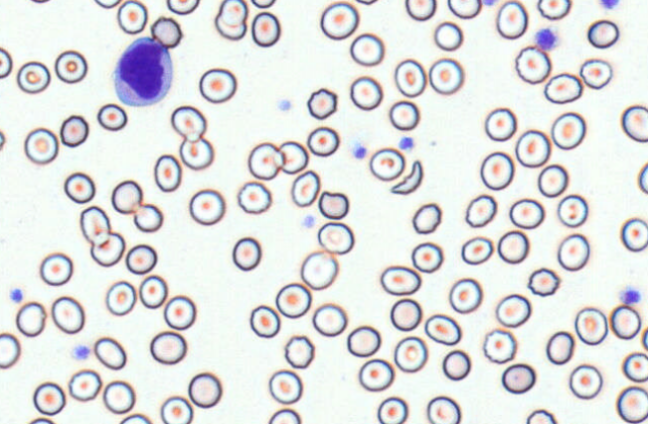MONO: (113, 35, 178, 107)
PLT: (537, 27, 560, 50), (620, 285, 644, 303), (71, 344, 91, 361), (8, 286, 24, 305), (399, 135, 415, 151), (278, 98, 292, 113), (601, 0, 621, 10), (353, 145, 366, 159), (302, 215, 315, 229), (480, 0, 497, 7)
RBC: (112, 36, 173, 106), (300, 250, 338, 290), (320, 1, 358, 40), (514, 45, 550, 84), (550, 111, 586, 150), (188, 188, 225, 225), (247, 142, 283, 180), (198, 67, 236, 103), (479, 151, 514, 190), (515, 129, 550, 167), (574, 306, 608, 345), (170, 105, 206, 141), (275, 282, 311, 318), (428, 57, 463, 94), (51, 295, 84, 334), (79, 205, 111, 245), (90, 231, 125, 267), (187, 372, 222, 408), (24, 127, 58, 164), (149, 330, 186, 364), (557, 233, 590, 271), (543, 72, 582, 104), (394, 58, 426, 97), (380, 265, 421, 295), (568, 363, 602, 399), (369, 147, 405, 181), (448, 277, 482, 313), (393, 336, 427, 372), (495, 293, 531, 327), (317, 221, 354, 254), (496, 0, 527, 39), (482, 328, 516, 363), (312, 302, 347, 336), (268, 369, 302, 404), (349, 32, 384, 66), (358, 358, 394, 391), (424, 313, 461, 345), (616, 385, 647, 423), (16, 60, 50, 94), (39, 252, 73, 286), (163, 295, 196, 330), (236, 181, 271, 214), (349, 75, 382, 110), (290, 169, 320, 207), (179, 137, 213, 170), (54, 49, 87, 83), (93, 336, 126, 370), (102, 380, 135, 414), (32, 381, 65, 415), (111, 179, 143, 214), (609, 304, 641, 339), (346, 325, 381, 357), (15, 301, 46, 337), (105, 280, 136, 316), (389, 298, 422, 331), (497, 230, 529, 264), (484, 107, 516, 141), (509, 198, 544, 229), (153, 154, 181, 192), (68, 369, 101, 401), (116, 0, 147, 34), (501, 363, 535, 394), (537, 163, 568, 197), (249, 304, 280, 338), (251, 11, 280, 47), (63, 171, 95, 203), (411, 241, 443, 273), (465, 194, 496, 227), (557, 194, 588, 227), (579, 58, 612, 89), (278, 140, 308, 174), (284, 334, 314, 368), (232, 236, 261, 271), (125, 243, 157, 274), (306, 87, 337, 119), (306, 126, 339, 156), (621, 104, 647, 142), (138, 274, 167, 308), (426, 395, 460, 424), (545, 330, 574, 364), (620, 217, 648, 252), (411, 202, 441, 234), (160, 395, 193, 424), (59, 114, 88, 147), (527, 267, 560, 296), (388, 100, 419, 130), (461, 236, 493, 265), (587, 19, 619, 48), (442, 349, 471, 380), (376, 396, 408, 424), (133, 203, 163, 232), (433, 21, 462, 51), (96, 103, 127, 131), (622, 351, 647, 382), (0, 332, 20, 369), (219, 0, 246, 26), (537, 0, 571, 20), (447, 0, 481, 19), (405, 0, 436, 20), (267, 408, 301, 424), (525, 408, 557, 424), (166, 0, 199, 15), (0, 46, 12, 78), (118, 413, 152, 424), (637, 161, 648, 194), (93, 0, 121, 9), (250, 0, 276, 8), (27, 417, 55, 424), (642, 325, 648, 351), (354, 0, 379, 5), (0, 129, 5, 151), (28, 0, 51, 4)
Schistocyte: (389, 159, 425, 197), (151, 17, 182, 49), (320, 189, 351, 221)
